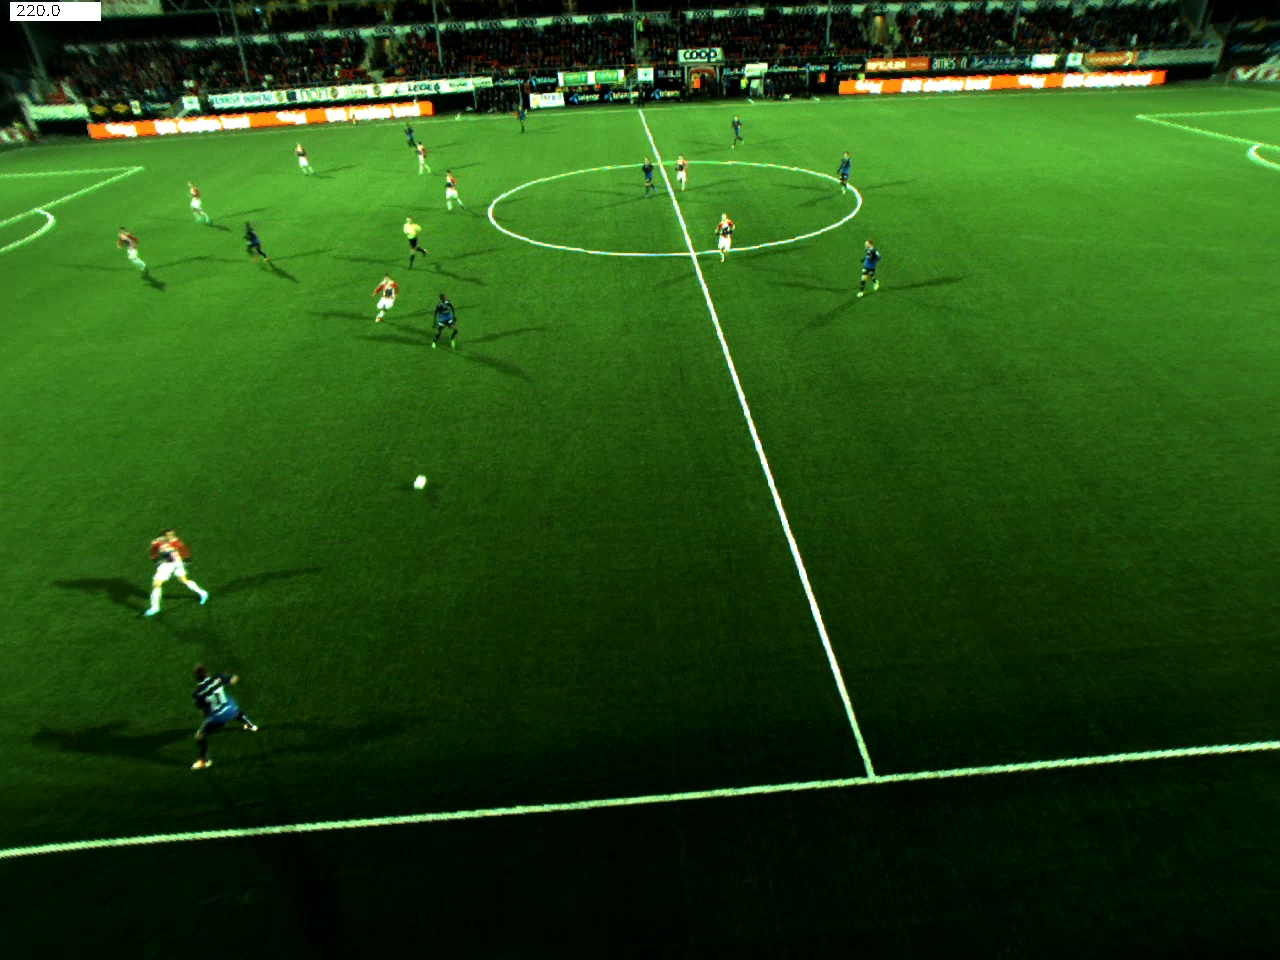blue: (176, 664, 276, 781), (430, 287, 471, 355), (851, 235, 885, 305), (237, 212, 271, 266), (835, 146, 859, 203), (634, 155, 662, 194), (721, 113, 751, 148), (512, 106, 534, 137), (401, 117, 419, 148)
red: (131, 521, 230, 620), (105, 227, 162, 292), (703, 207, 753, 270), (371, 270, 398, 349), (284, 135, 321, 191), (174, 184, 216, 231), (439, 173, 478, 224), (669, 153, 691, 202)
yellow: (401, 216, 437, 264)
